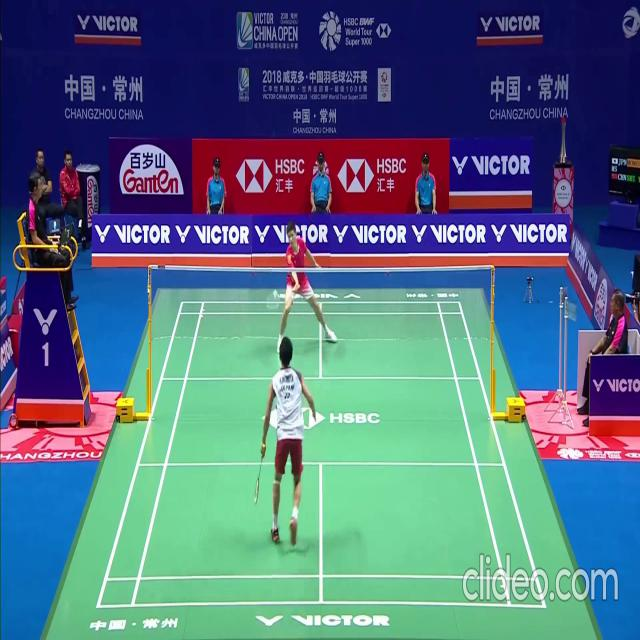Shuttlecock: (273, 290, 277, 297)
